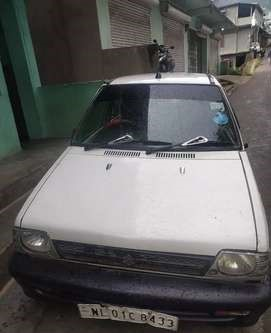NL01CB433: (77, 303, 178, 332)
